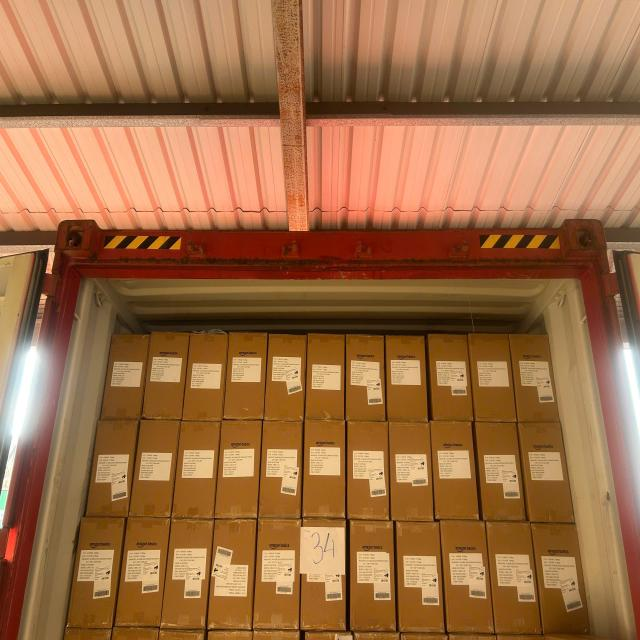Carton: (487, 519, 540, 634), (536, 520, 588, 634), (69, 520, 121, 631), (445, 518, 495, 633), (396, 519, 444, 632), (522, 421, 574, 522), (348, 518, 394, 631), (122, 520, 169, 630), (298, 524, 345, 632), (169, 520, 214, 632), (477, 421, 526, 519), (258, 521, 301, 632), (212, 521, 254, 632), (430, 421, 477, 518), (514, 334, 562, 425), (90, 419, 135, 516), (470, 332, 518, 422), (390, 423, 433, 522), (302, 419, 345, 518), (178, 424, 220, 522), (135, 419, 177, 516), (348, 421, 390, 518), (218, 420, 259, 517), (263, 420, 303, 518), (428, 331, 472, 420), (384, 334, 425, 422), (146, 330, 186, 419), (346, 334, 386, 422), (189, 332, 227, 422), (226, 330, 264, 420), (305, 332, 343, 420), (110, 334, 148, 421), (269, 333, 306, 422), (114, 626, 161, 640), (64, 628, 114, 640), (300, 630, 353, 640), (254, 629, 302, 640), (159, 629, 207, 640), (207, 629, 255, 640), (354, 632, 402, 640)
